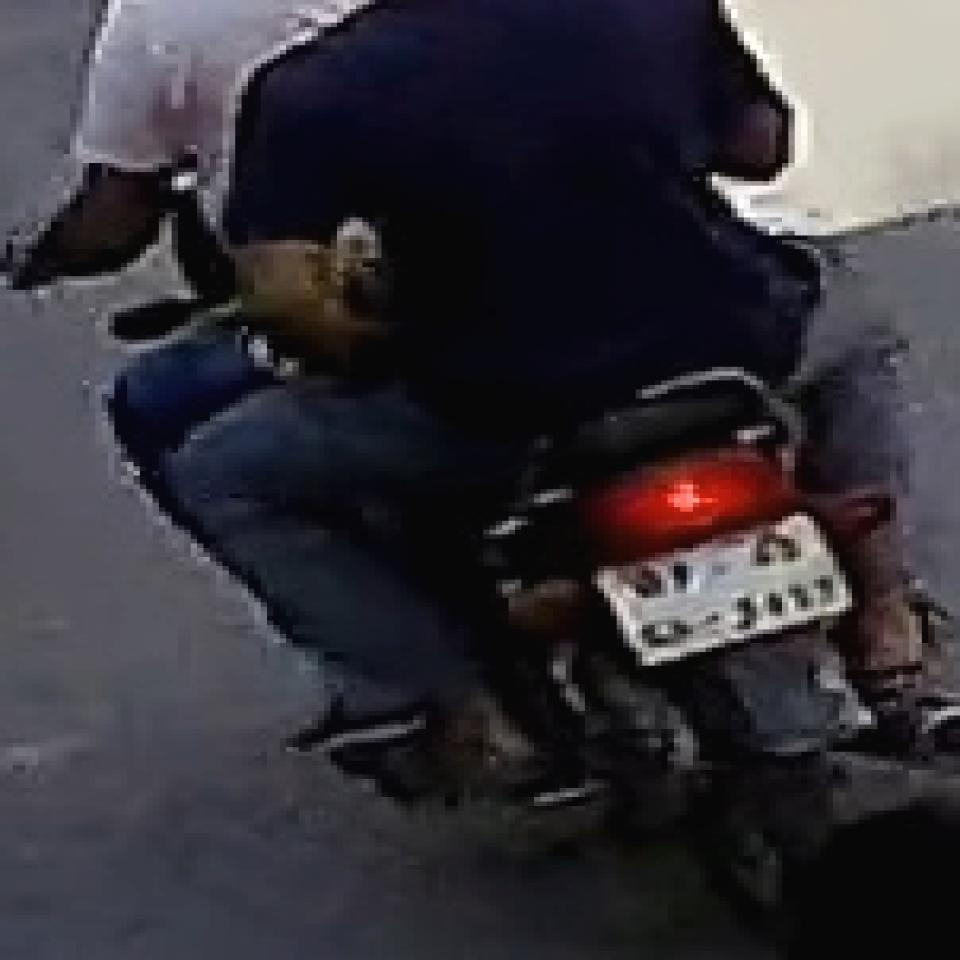tail_light: (611, 440, 783, 549)
